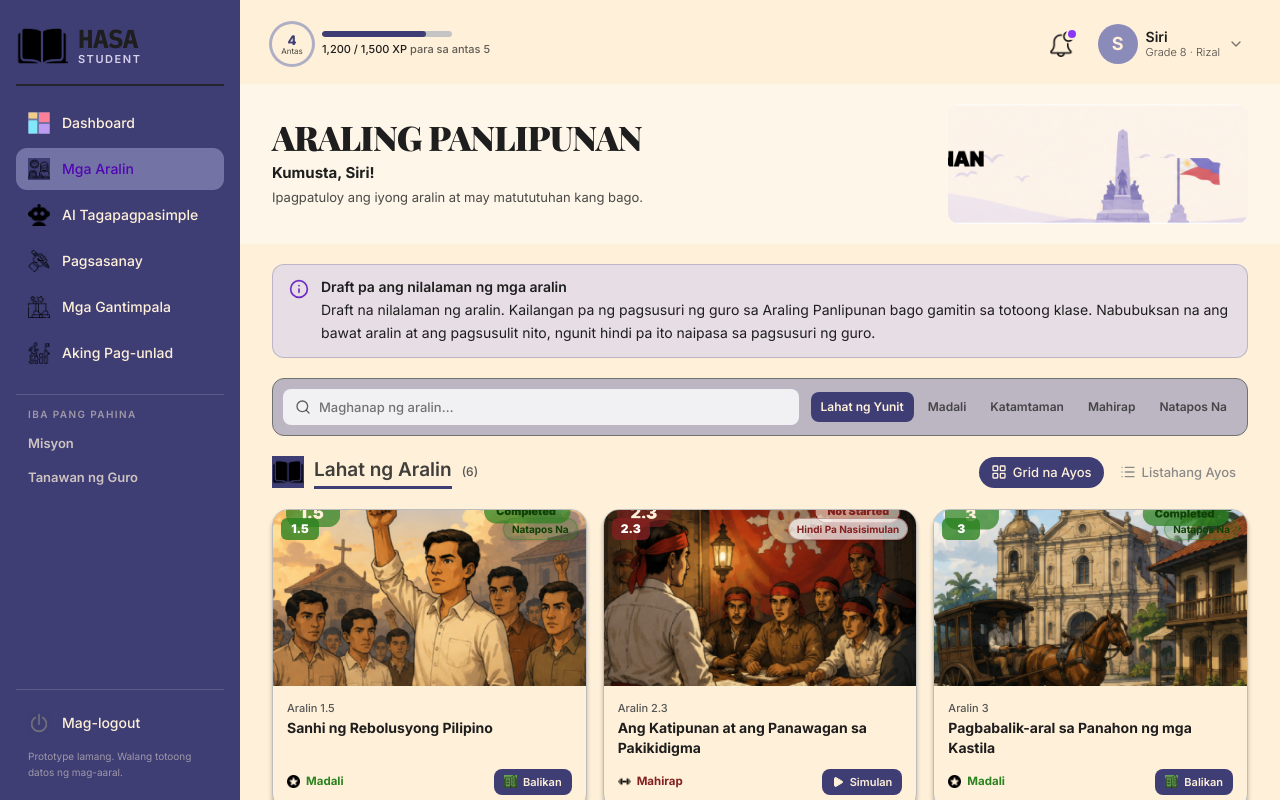
mga aralin › nagsasala ng natapos na aralin
Click the button "Natapos Na": (1193, 406) [1149,392,1237,422]
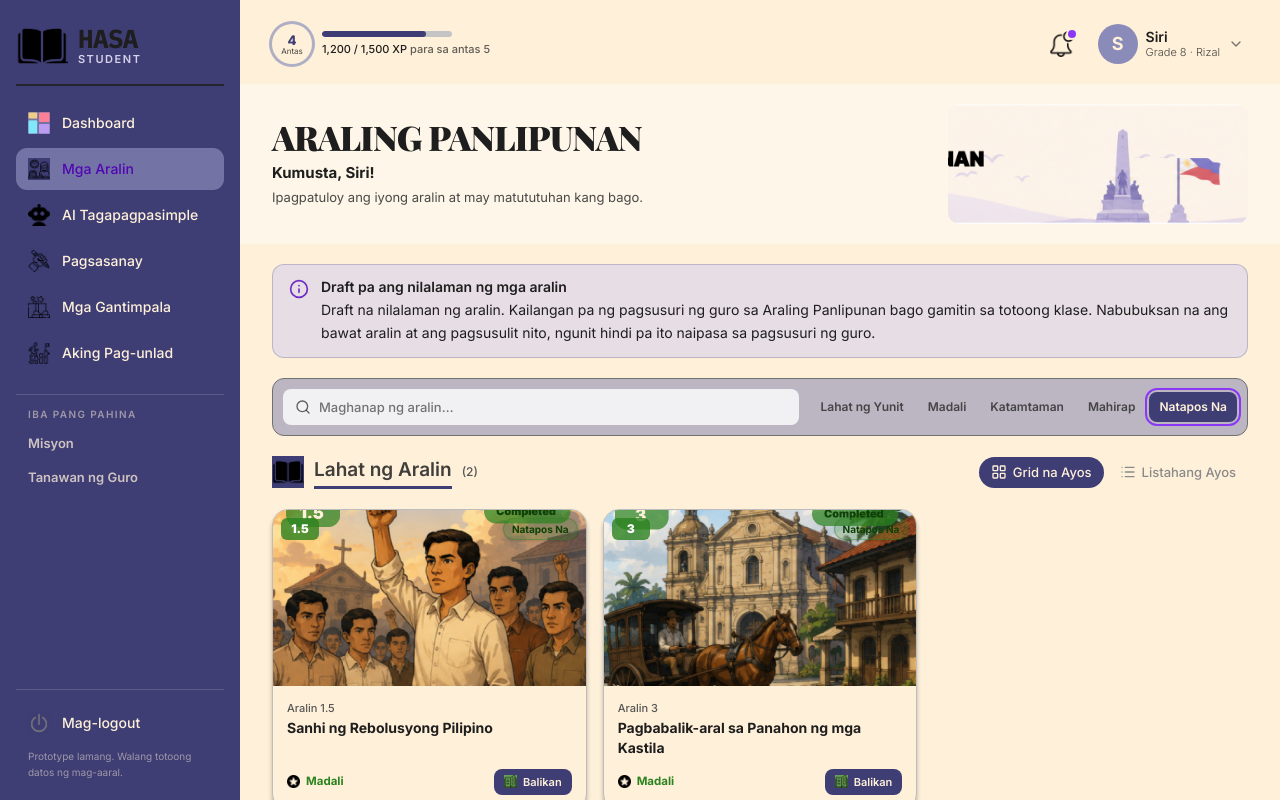
Expected: the heading "Sanhi ng Rebolusyong Pilipino" is shown, [287,719,493,736]
Now the link "Ang Katipunan at ang Panawagan sa Pakikidigma" is gone
